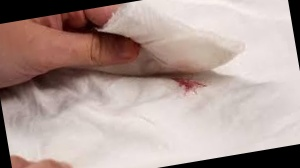lipstick: (165, 64, 211, 101)
